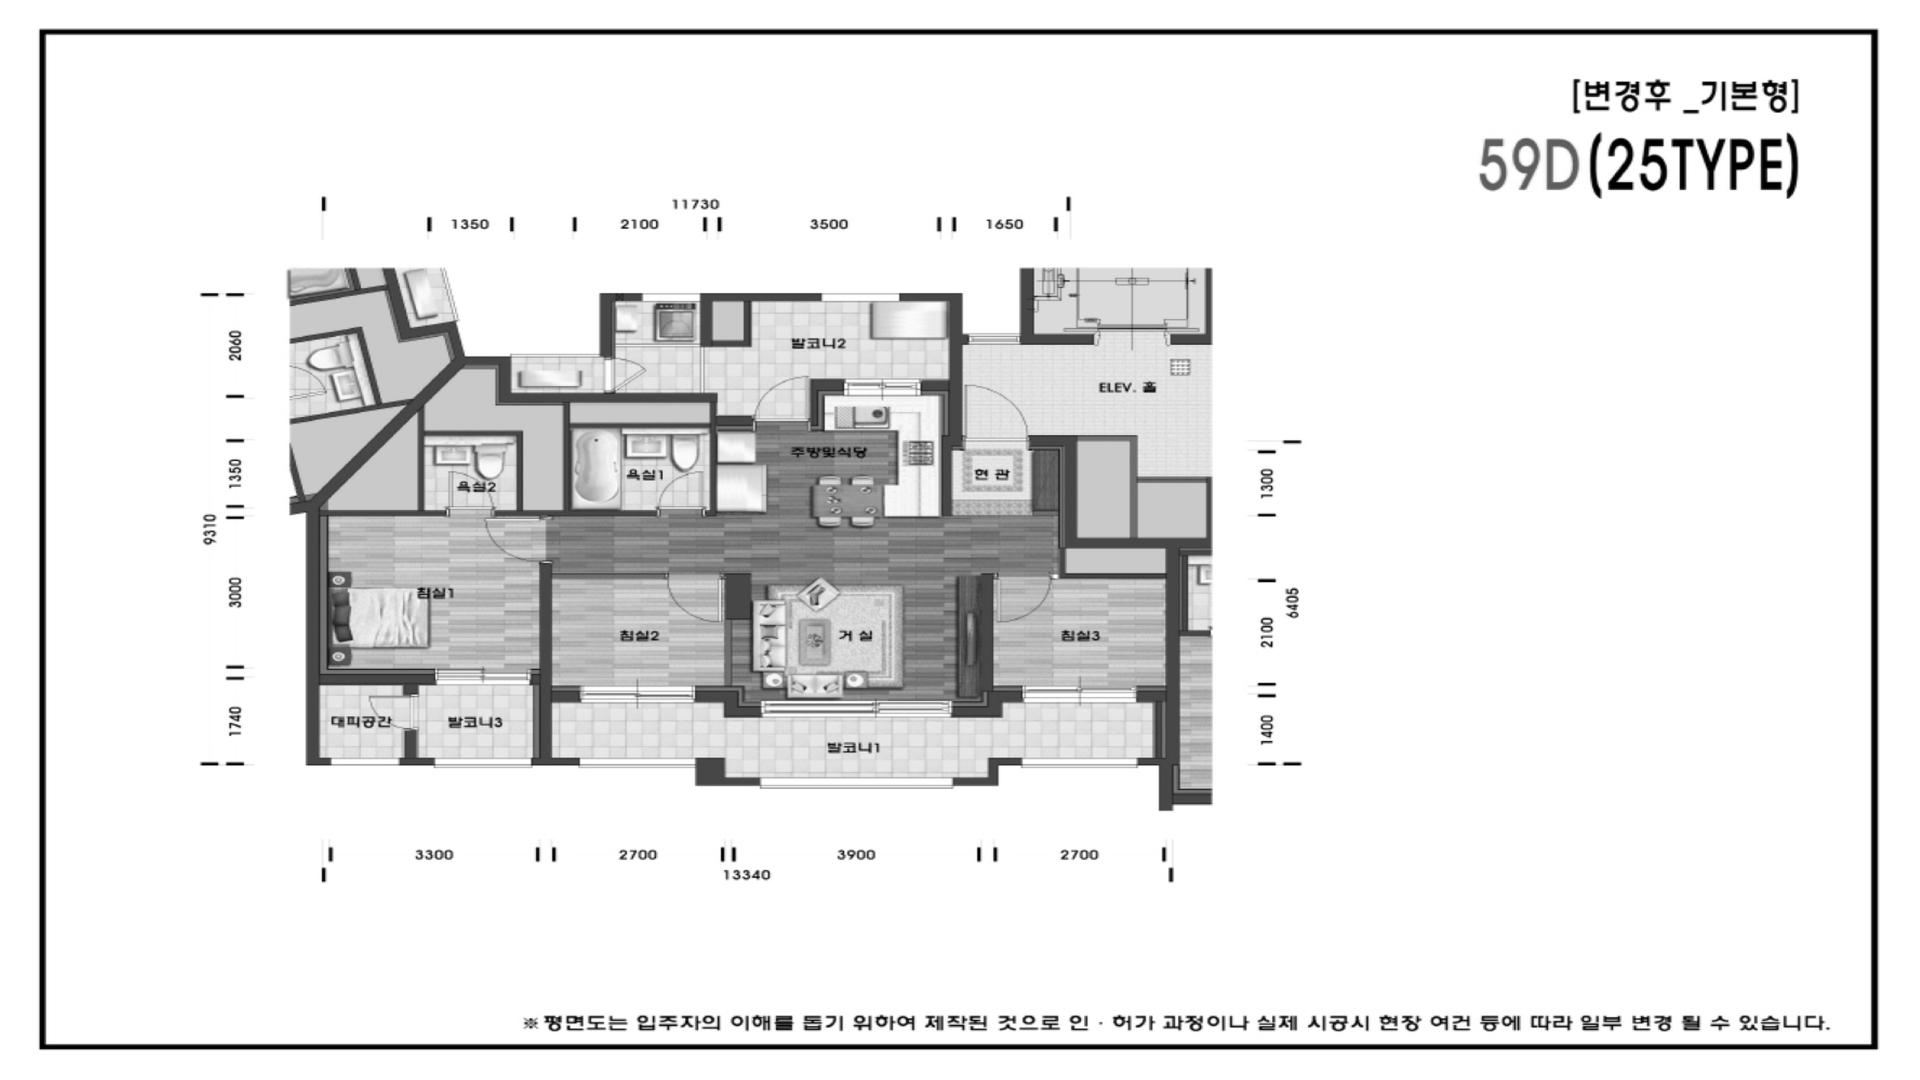door: (963, 385, 1030, 450), (993, 574, 1059, 624), (752, 376, 811, 431), (484, 517, 553, 563), (665, 574, 724, 622), (658, 471, 705, 517), (447, 472, 495, 517), (369, 694, 419, 731), (600, 357, 647, 393)
wall: (305, 356, 719, 766), (1029, 435, 1180, 765), (320, 404, 753, 517), (899, 293, 963, 517), (952, 574, 1022, 717), (531, 563, 579, 766), (700, 293, 822, 348), (1059, 549, 1166, 579), (724, 574, 752, 687), (600, 294, 642, 359), (320, 674, 435, 695), (953, 758, 1022, 787), (695, 757, 761, 786), (1137, 691, 1166, 757), (712, 301, 752, 348), (695, 691, 762, 717), (811, 378, 844, 426), (553, 574, 666, 580), (404, 731, 418, 758), (553, 690, 580, 703), (922, 378, 949, 392), (398, 758, 435, 765), (1033, 510, 1060, 517), (531, 674, 539, 686)
window: (761, 699, 952, 717), (760, 777, 953, 790), (579, 684, 695, 703), (1022, 684, 1137, 703), (434, 669, 533, 686), (844, 378, 922, 396), (579, 758, 695, 769), (1022, 758, 1137, 769), (435, 757, 531, 769), (822, 293, 901, 302), (331, 757, 400, 766), (642, 294, 700, 302)
